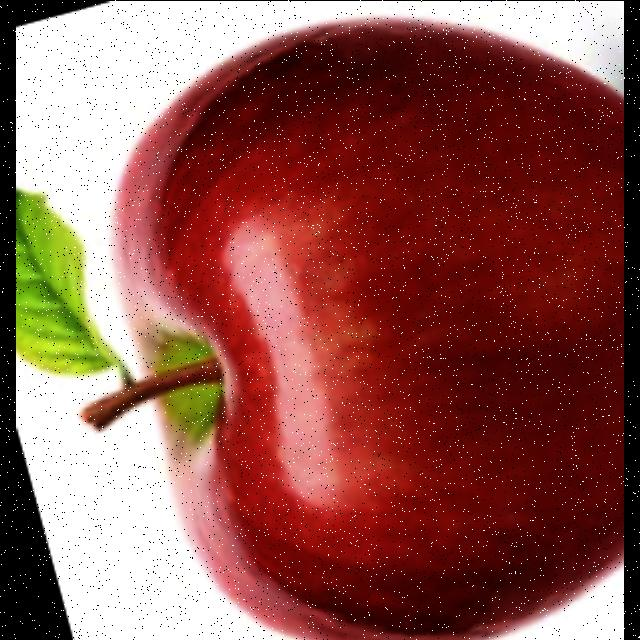Apel Segar: (130, 0, 624, 640)
